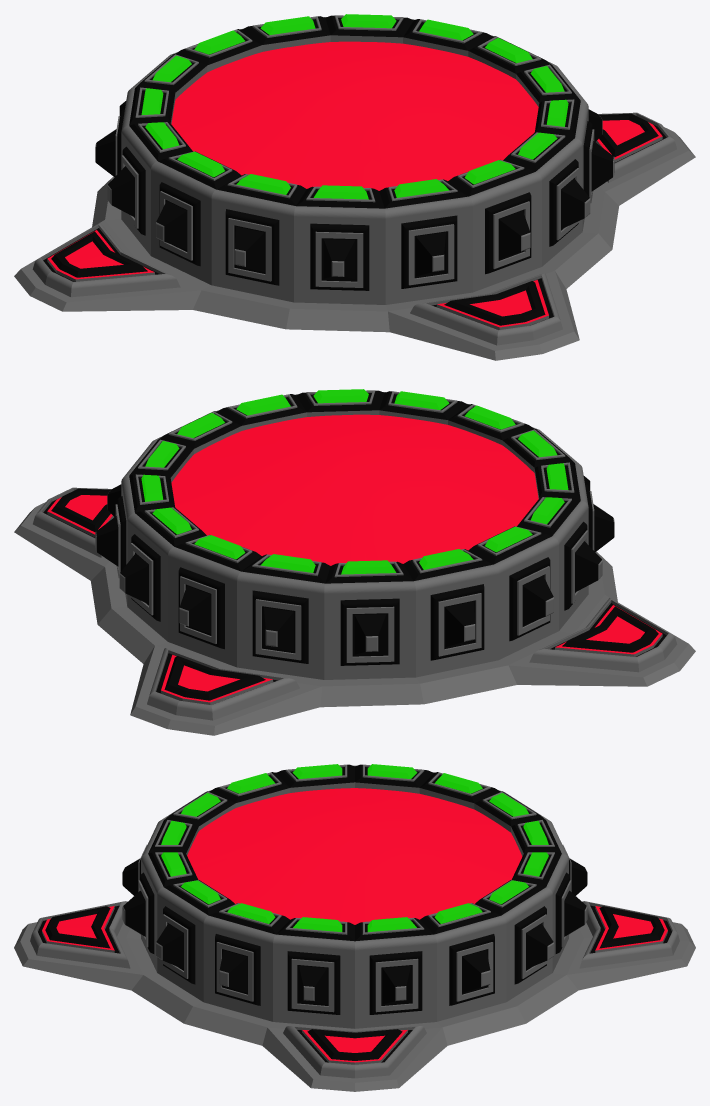
The model's file is Bouton.fbx.
The picture shows the model from 3 angles, top to bottom: view 1: azimuth 30°, elevation 25°; view 2: azimuth 150°, elevation 25°; view 3: azimuth 270°, elevation 25°; orthographic projection. The views are drawn at different scales.
Visible parts, largest first — view 1: Accroche, Pusher, Light; view 2: Accroche, Pusher, Light; view 3: Accroche, Pusher, Light.
Boxes of the visible parts, box(x1,y1,x2,y2) form: Accroche: box(14, 15, 695, 360); Pusher: box(171, 41, 538, 190); Light: box(141, 14, 568, 199); Accroche: box(14, 390, 695, 735); Pusher: box(171, 414, 538, 565); Light: box(141, 389, 568, 574); Accroche: box(14, 764, 695, 1091); Pusher: box(187, 788, 522, 924); Light: box(161, 764, 548, 931).
Size of the model in its own units: 319 by 64.77 by 319.
